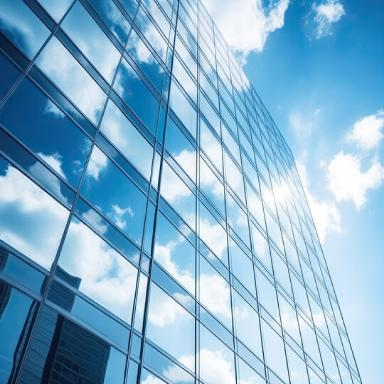glass_panel: (2, 76, 92, 193), (48, 218, 138, 328), (14, 304, 124, 383), (1, 155, 69, 272), (96, 98, 154, 184), (143, 284, 195, 378), (149, 213, 195, 310), (0, 282, 34, 383), (232, 284, 265, 375), (199, 312, 235, 383), (160, 158, 193, 232), (141, 339, 193, 384), (236, 346, 266, 383), (285, 336, 308, 383)
